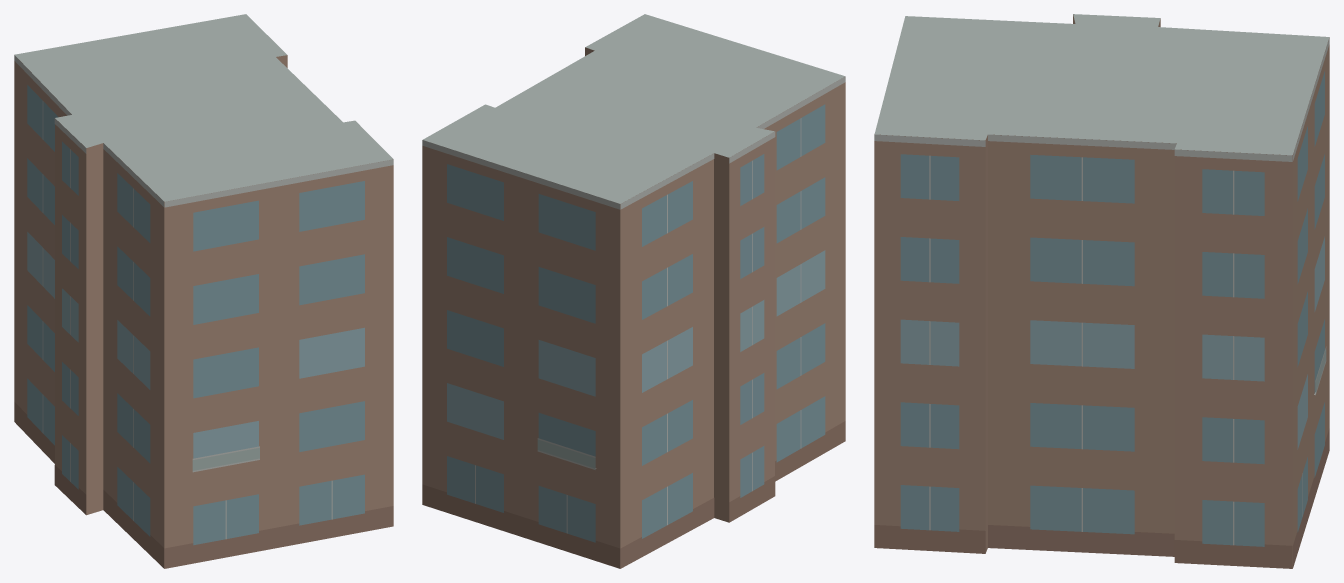
File: survey-upis-32637854.glb
3 views of the same model, side by side, from view 1: azimuth 30°, elevation 25°; view 2: azimuth 150°, elevation 25°; view 3: azimuth 270°, elevation 25° (orthographic). The views are drawn at different scales.
Parts seen in each view (by area): view 1: survey-upis-32637854.tmp; view 2: survey-upis-32637854.tmp; view 3: survey-upis-32637854.tmp.
Boxes of the visible parts, x1=… form: survey-upis-32637854.tmp: x1=14, y1=14, x2=393, y2=568; survey-upis-32637854.tmp: x1=422, y1=14, x2=845, y2=568; survey-upis-32637854.tmp: x1=874, y1=14, x2=1329, y2=568.
Size of the model in its own units: 11.19 by 15.25 by 15.22.
